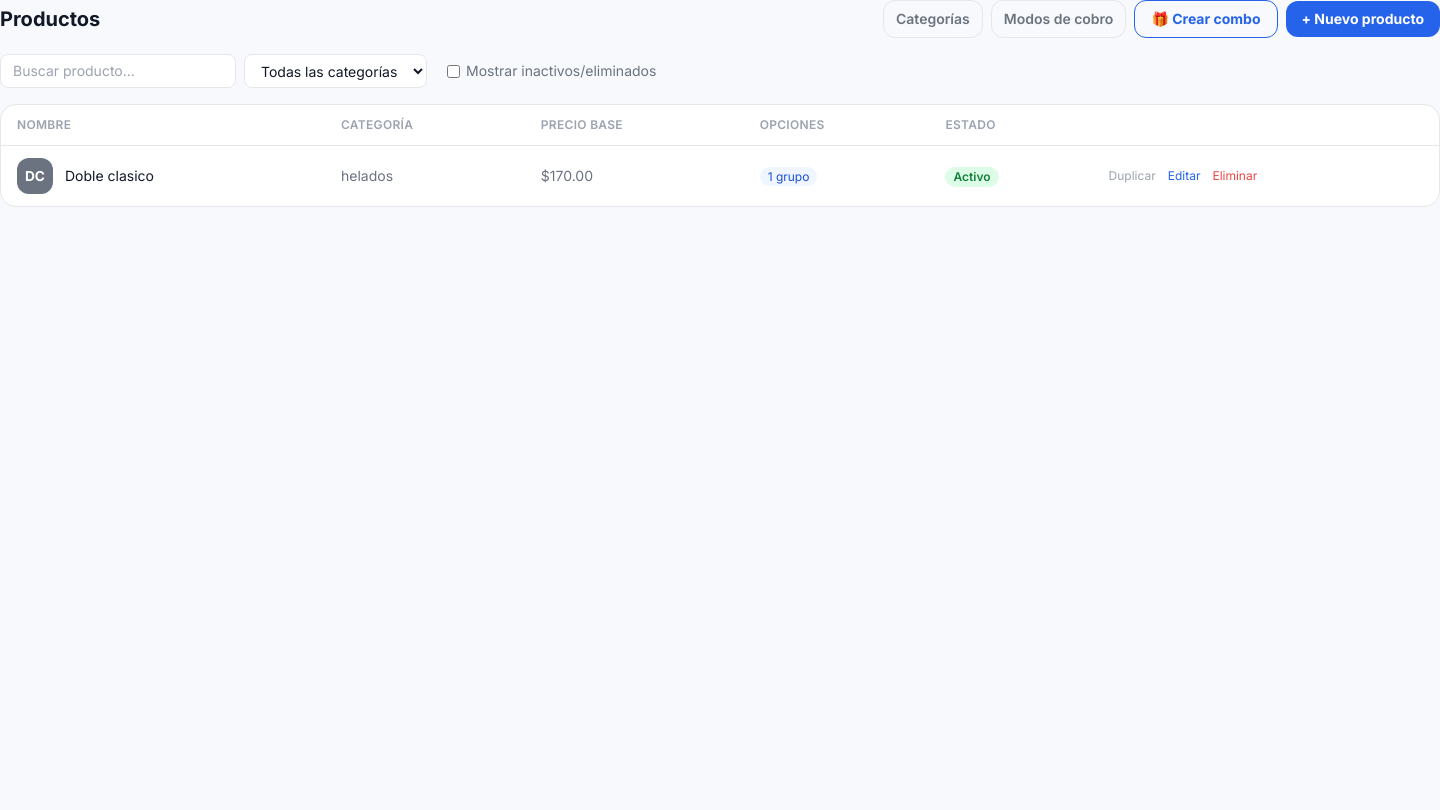
Test: ProductsPage — confirmacion de lo guardado › marca como guardado lo que el extra descuenta del inventario
expect the text "Doble clasico" is shown: met, box [65,166,154,186]
Click the button "Editar" at (1184, 176), box [1168,168,1200,184]
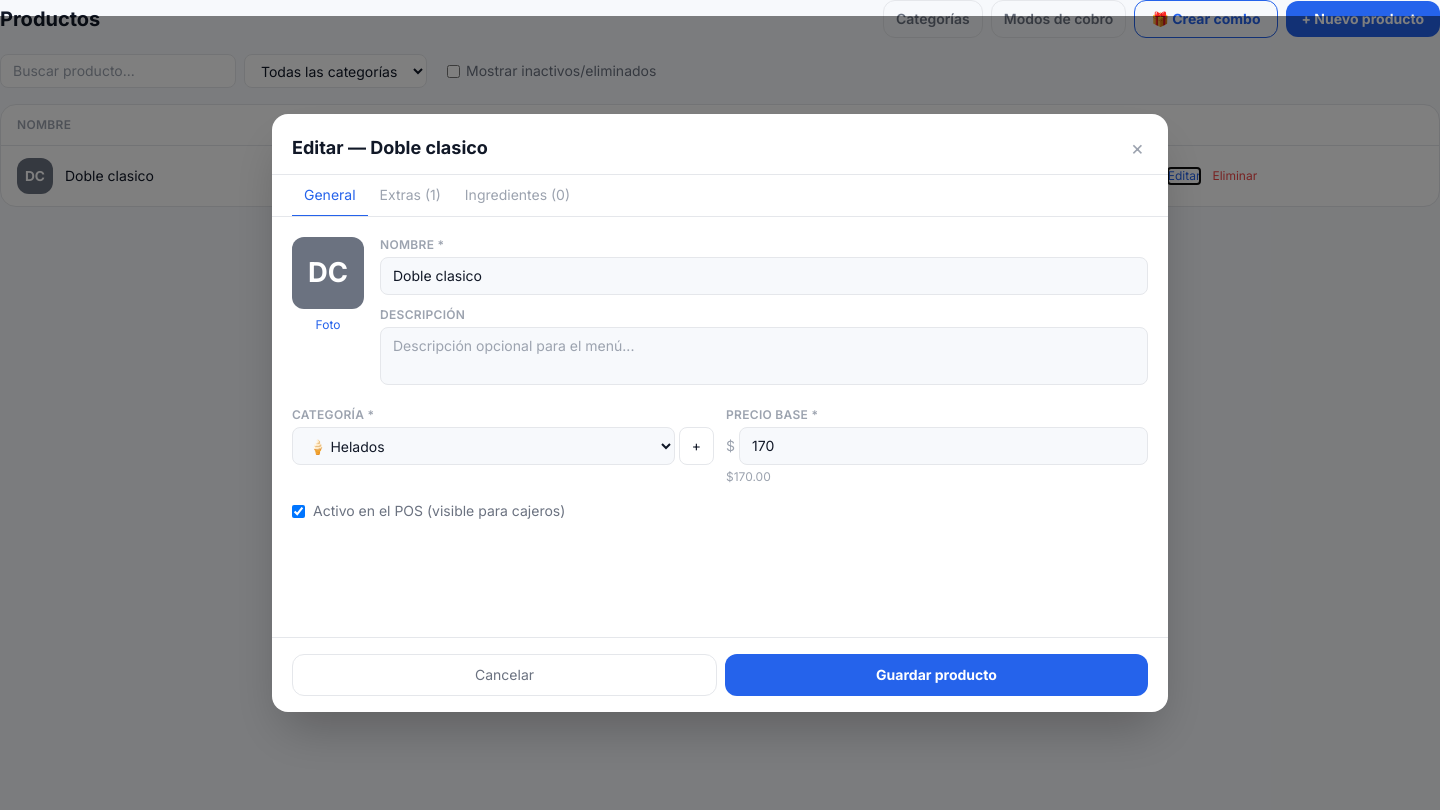
Click the button "Extras (1)" at (410, 196), box [368,175,453,217]
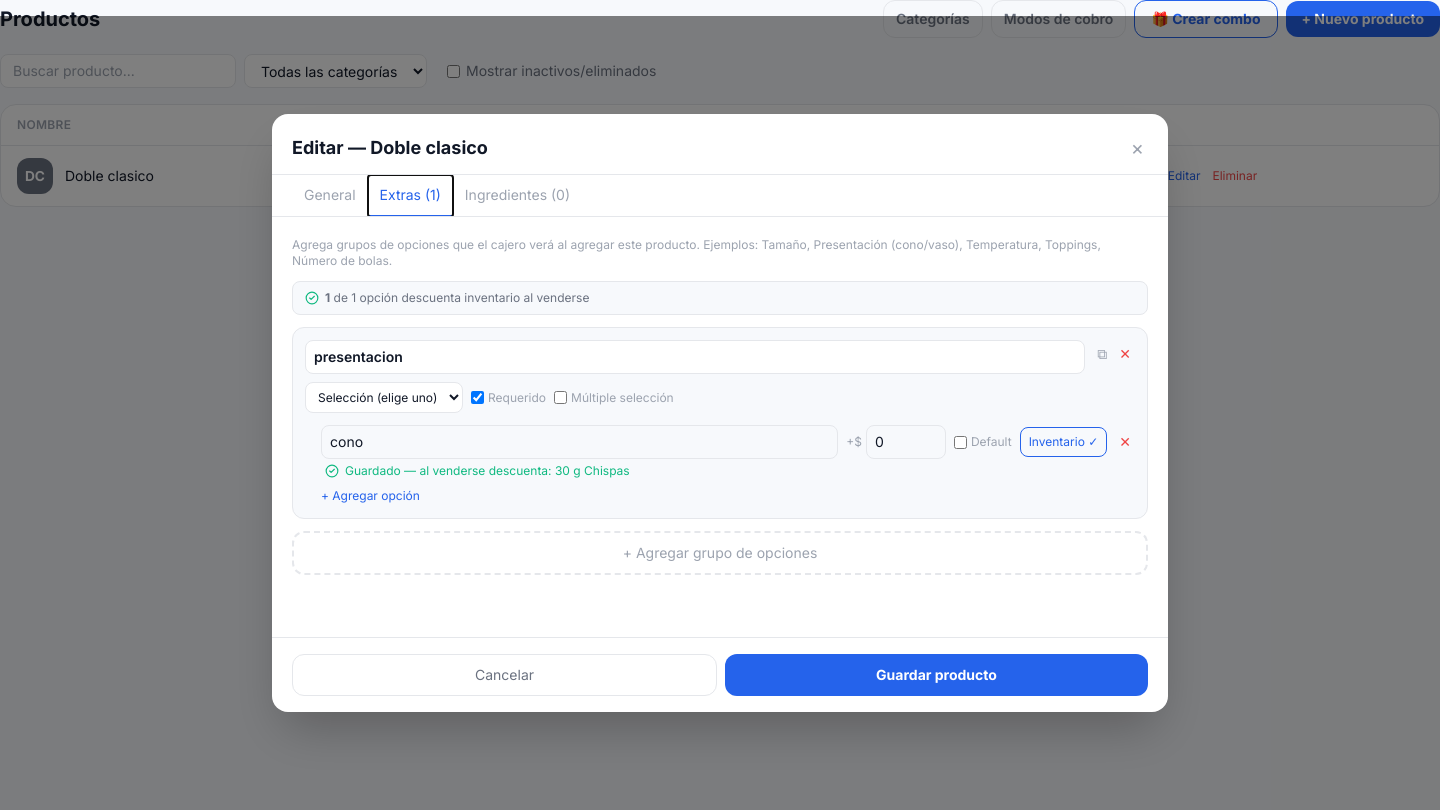
expect the text "Guardado — al venderse descuenta: 30 g Chispas" is shown: met, box [345,463,630,480]
